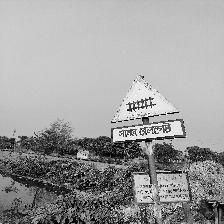Rail-crossing: (110, 76, 185, 144)
